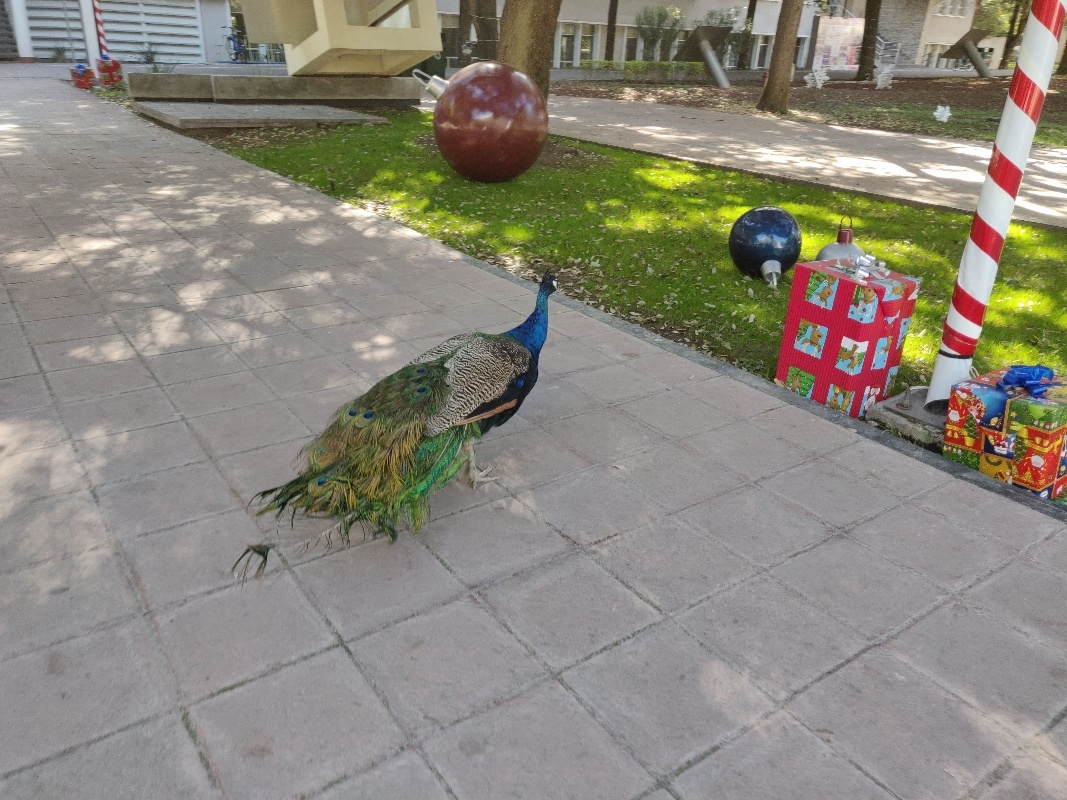pavoreal: (447, 267, 564, 437)
